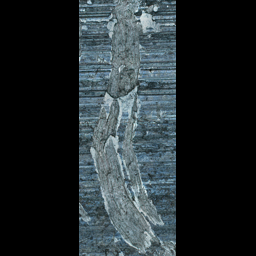d: (88, 111, 146, 214), (94, 47, 144, 128), (110, 194, 173, 254), (100, 0, 167, 46), (79, 0, 95, 32)
